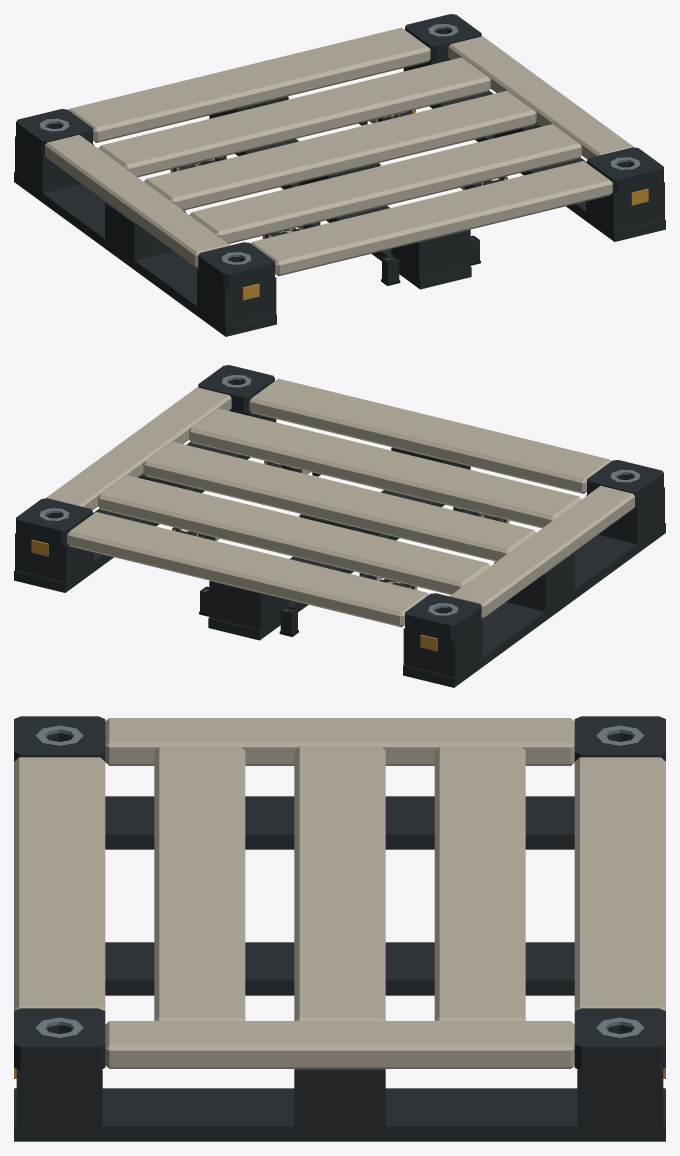
The model's file is stride02_stowed_d0_lod1.glb.
3 views of the same model, one above another, from view 1: azimuth 30°, elevation 25°; view 2: azimuth 150°, elevation 25°; view 3: azimuth 270°, elevation 25° (orthographic). The views are drawn at different scales.
Visible parts, largest first — view 1: PALLET_SURFACE, PARK_HOUSINGS_SURFACE; view 2: PALLET_SURFACE, PARK_HOUSINGS_SURFACE; view 3: PALLET_SURFACE.
Part boxes in pixels (left/top/right/bottom): PALLET_SURFACE: left=14, top=14, right=665, bottom=336; PARK_HOUSINGS_SURFACE: left=382, top=235, right=479, bottom=283; PALLET_SURFACE: left=14, top=365, right=665, bottom=687; PARK_HOUSINGS_SURFACE: left=200, top=586, right=297, bottom=634; PALLET_SURFACE: left=14, top=716, right=665, bottom=1141.
Bounding box in the file's own units: 1.2 × 0.16 × 1.
